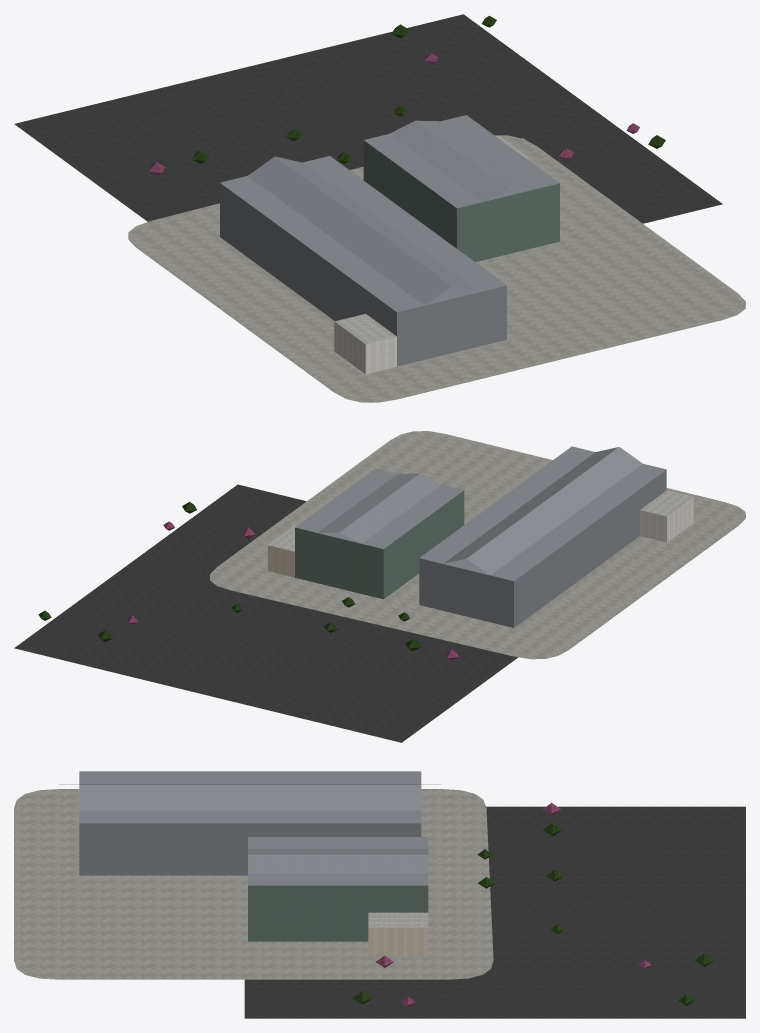
Rendered from cidade_S06_01_lod.gltf.
3 renders of one model, top to bottom at view 1: azimuth 30°, elevation 25°; view 2: azimuth 150°, elevation 25°; view 3: azimuth 270°, elevation 25°, orthographic. The views are drawn at different scales.
Parts seen in each view (by area): view 1: S06_01_Chao_LOD2, S06_01_Edificios_LOD1, S06_01_Silhueta_LOD2, S06_01_Vegetacao_LOD2; view 2: S06_01_Chao_LOD2, S06_01_Edificios_LOD1, S06_01_Silhueta_LOD2, S06_01_Vegetacao_LOD2; view 3: S06_01_Chao_LOD2, S06_01_Edificios_LOD1, S06_01_Silhueta_LOD2, S06_01_Vegetacao_LOD2.
Part boxes in pixels (x1,y1,x2,y2): S06_01_Chao_LOD2: (14, 14, 745, 402); S06_01_Edificios_LOD1: (149, 120, 636, 377); S06_01_Silhueta_LOD2: (220, 115, 559, 365); S06_01_Vegetacao_LOD2: (148, 15, 665, 175); S06_01_Chao_LOD2: (14, 431, 745, 742); S06_01_Edificios_LOD1: (228, 447, 727, 637); S06_01_Silhueta_LOD2: (295, 446, 666, 627); S06_01_Vegetacao_LOD2: (38, 501, 458, 660); S06_01_Chao_LOD2: (14, 789, 745, 1018); S06_01_Edificios_LOD1: (59, 784, 447, 962); S06_01_Silhueta_LOD2: (79, 771, 428, 941); S06_01_Vegetacao_LOD2: (352, 803, 714, 1006).
Size of the model in its own units: 109 by 14.44 by 146.
Materials: 10 (10 with a texture image).
